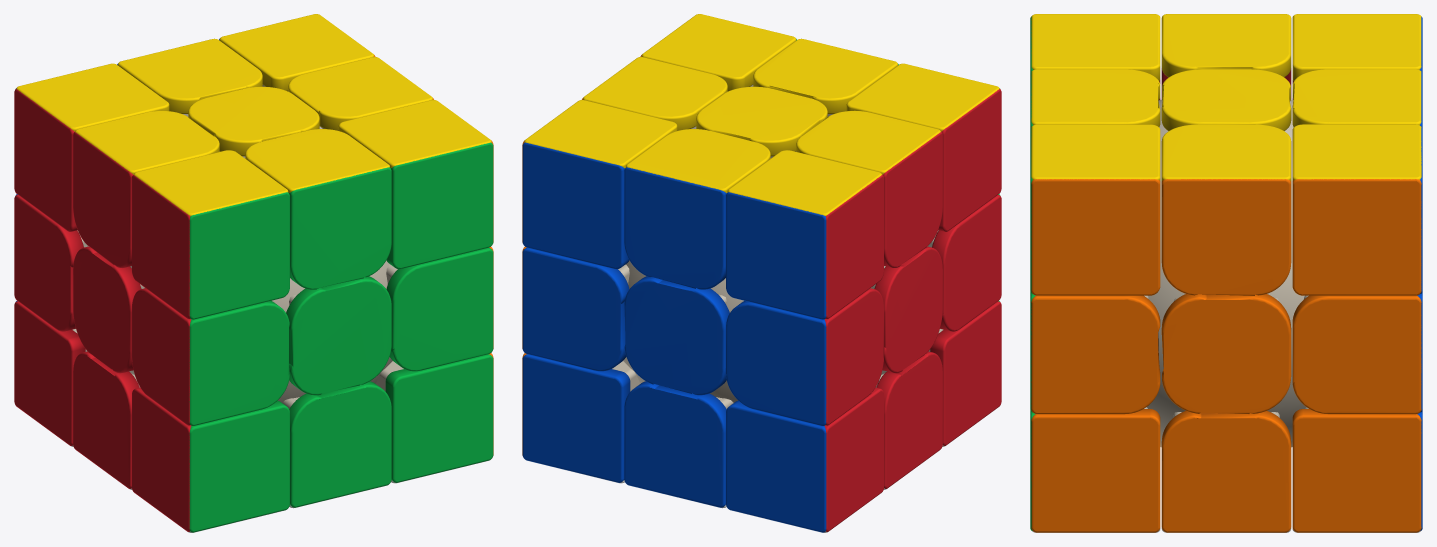
3 renders of one model, left to right at view 1: azimuth 30°, elevation 25°; view 2: azimuth 150°, elevation 25°; view 3: azimuth 270°, elevation 25°, orthographic. The views are drawn at different scales.
Parts seen in each view (by area): view 1: piece_-1,1,1, piece_-1,-1,1, piece_1,1,1, piece_-1,0,1, piece_0,1,1, piece_-1,1,-1, piece_-1,1,0, piece_1,-1,1, piece_1,0,1, piece_0,-1,1, piece_0,0,1, piece_-1,-1,-1 (+8 smaller); view 2: piece_-1,1,-1, piece_-1,-1,-1, piece_1,1,-1, piece_-1,0,-1, piece_0,1,-1, piece_-1,1,1, piece_-1,1,0, piece_1,-1,-1, piece_1,0,-1, piece_0,-1,-1, piece_0,0,-1, piece_-1,-1,1 (+8 smaller); view 3: piece_1,1,-1, piece_1,1,1, piece_1,1,0, piece_1,-1,1, piece_1,-1,-1, piece_1,-1,0, piece_1,0,-1, piece_1,0,1, piece_1,0,0, piece_-1,1,0, piece_-1,1,1, piece_-1,1,-1 (+4 smaller).
Boxes of the visible parts, x1=… form: piece_-1,1,1: x1=132, y1=150, x2=289, y2=319; piece_-1,-1,1: x1=132, y1=387, x2=289, y2=532; piece_1,1,1: x1=338, y1=100, x2=493, y2=269; piece_-1,0,1: x1=131, y1=288, x2=289, y2=425; piece_0,1,1: x1=245, y1=129, x2=391, y2=289; piece_-1,1,-1: x1=14, y1=63, x2=169, y2=231; piece_-1,1,0: x1=73, y1=110, x2=219, y2=267; piece_1,-1,1: x1=376, y1=353, x2=493, y2=483; piece_1,0,1: x1=386, y1=247, x2=493, y2=371; piece_0,-1,1: x1=282, y1=381, x2=391, y2=508; piece_0,0,1: x1=286, y1=276, x2=391, y2=395; piece_-1,-1,-1: x1=14, y1=301, x2=87, y2=446; piece_-1,1,-1: x1=726, y1=150, x2=883, y2=319; piece_-1,-1,-1: x1=726, y1=387, x2=883, y2=532; piece_1,1,-1: x1=522, y1=100, x2=677, y2=269; piece_-1,0,-1: x1=725, y1=288, x2=883, y2=425; piece_0,1,-1: x1=624, y1=129, x2=770, y2=289; piece_-1,1,1: x1=846, y1=63, x2=1001, y2=231; piece_-1,1,0: x1=796, y1=110, x2=942, y2=267; piece_1,-1,-1: x1=522, y1=353, x2=639, y2=483; piece_1,0,-1: x1=522, y1=247, x2=629, y2=371; piece_0,-1,-1: x1=624, y1=381, x2=733, y2=508; piece_0,0,-1: x1=624, y1=276, x2=729, y2=395; piece_-1,-1,1: x1=928, y1=301, x2=1001, y2=446; piece_1,1,-1: x1=1292, y1=124, x2=1422, y2=295; piece_1,1,1: x1=1030, y1=124, x2=1160, y2=295; piece_1,1,0: x1=1161, y1=124, x2=1291, y2=295; piece_1,-1,1: x1=1030, y1=407, x2=1160, y2=532; piece_1,-1,-1: x1=1292, y1=407, x2=1422, y2=532; piece_1,-1,0: x1=1161, y1=411, x2=1291, y2=532; piece_1,0,-1: x1=1292, y1=292, x2=1422, y2=414; piece_1,0,1: x1=1030, y1=292, x2=1160, y2=414; piece_1,0,0: x1=1161, y1=294, x2=1291, y2=414; piece_-1,1,0: x1=1161, y1=14, x2=1291, y2=98; piece_-1,1,1: x1=1030, y1=14, x2=1160, y2=100; piece_-1,1,-1: x1=1292, y1=14, x2=1422, y2=99.
Bounding box in the file's own units: 2 × 2 × 2.
